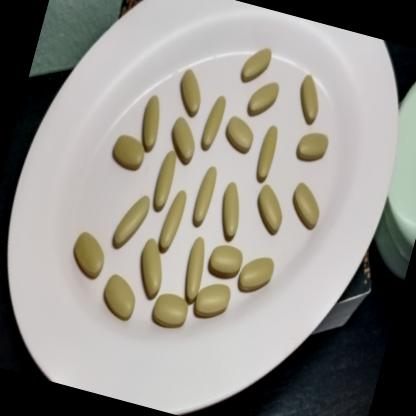VitaminB: (109, 186, 153, 255), (282, 176, 328, 238), (64, 226, 112, 284), (94, 270, 142, 328), (176, 231, 214, 304), (167, 62, 212, 123), (130, 235, 172, 300), (209, 178, 250, 244), (246, 180, 291, 240), (234, 244, 280, 302), (130, 90, 170, 155), (154, 185, 190, 256), (189, 276, 237, 327), (248, 120, 284, 188), (162, 110, 204, 168), (290, 119, 335, 173), (288, 70, 328, 130), (197, 90, 231, 158), (188, 158, 220, 228), (218, 110, 261, 162), (147, 288, 191, 336), (148, 147, 180, 213), (106, 129, 150, 176), (244, 70, 282, 124), (204, 237, 248, 283), (235, 40, 273, 90)
